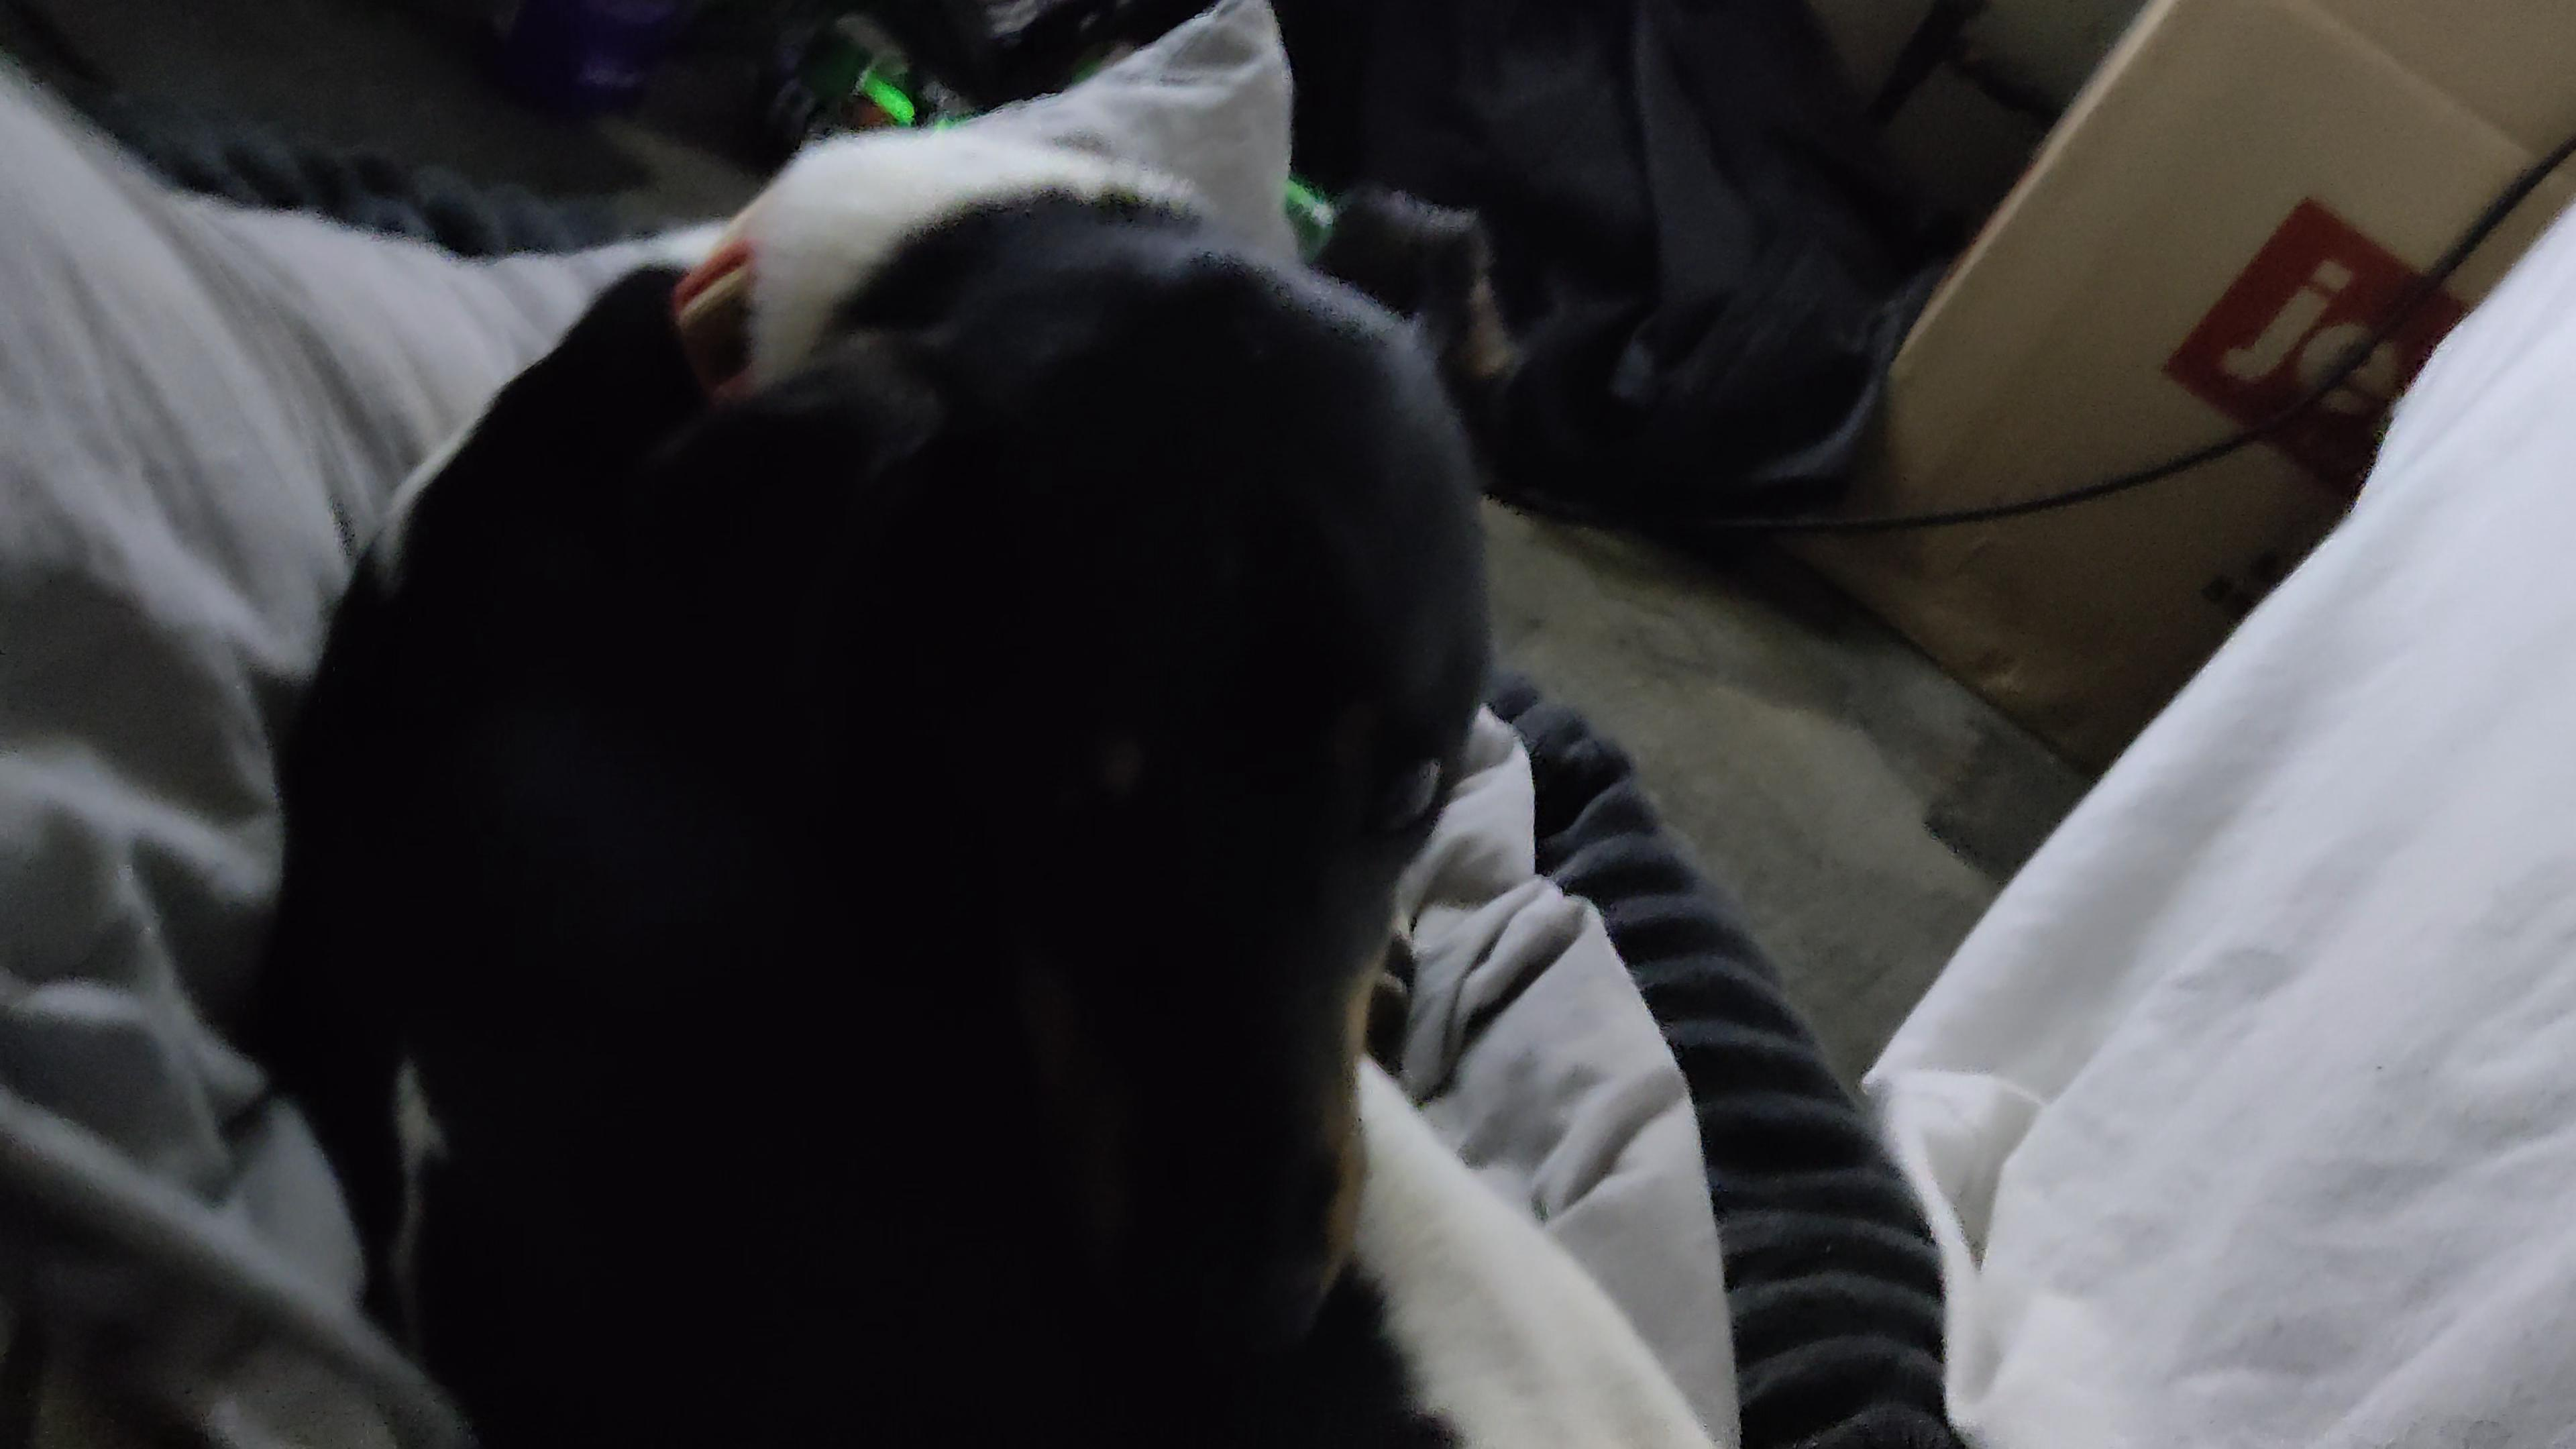Dog: (255, 119, 1732, 1449)
